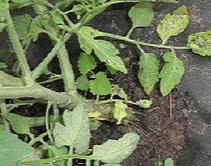Tomato Septoria leaf spot: (157, 4, 193, 49), (187, 33, 211, 63)
